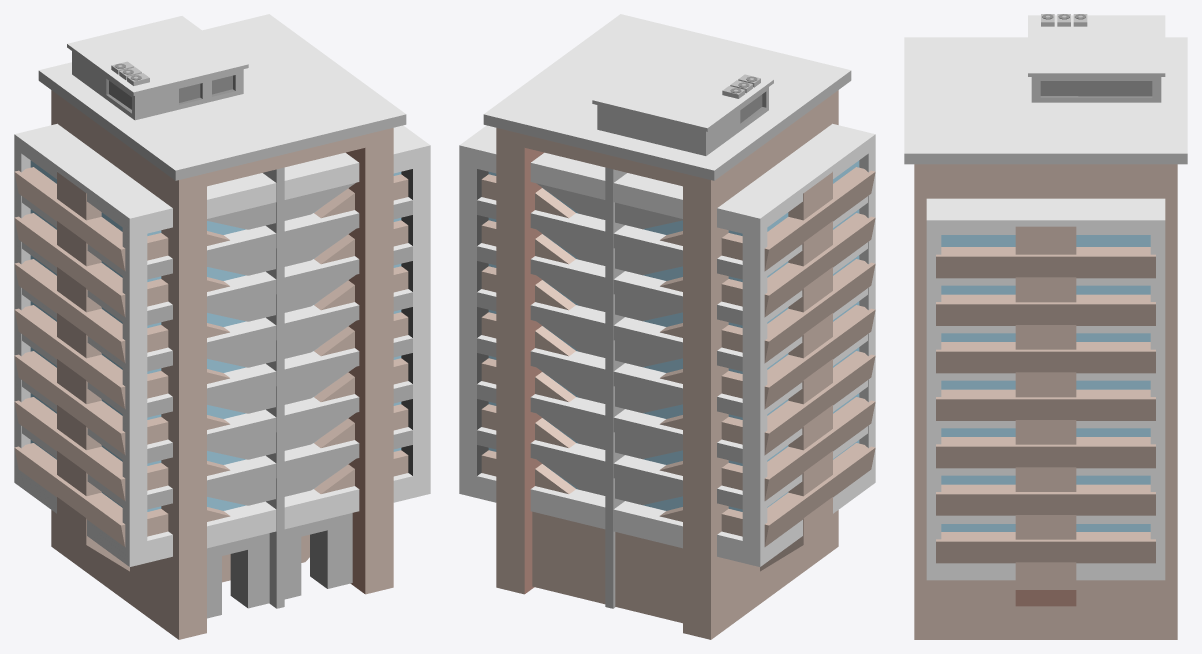
File: house_high_009.fbx
3 views of the same model, side by side, from view 1: azimuth 30°, elevation 25°; view 2: azimuth 150°, elevation 25°; view 3: azimuth 270°, elevation 25° (orthographic). The views are drawn at different scales.
Visible parts, largest first — view 1: house_high_009; view 2: house_high_009; view 3: house_high_009.
Part boxes in pixels (bbox=[...]): house_high_009: bbox=[14, 14, 430, 639]; house_high_009: bbox=[459, 14, 875, 639]; house_high_009: bbox=[904, 14, 1187, 639].
Size of the model in its own units: 1541 by 2427 by 1181.
